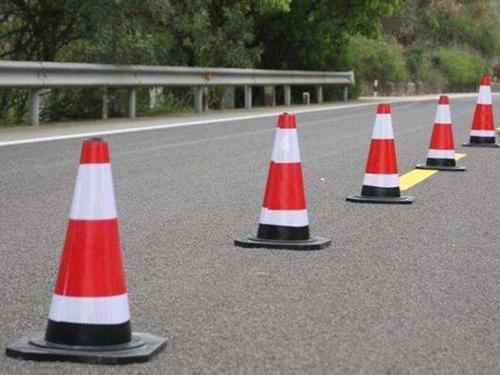cone_barrel: (34, 140, 144, 353), (246, 109, 317, 243), (354, 103, 406, 201), (419, 93, 459, 166), (465, 72, 497, 145)
